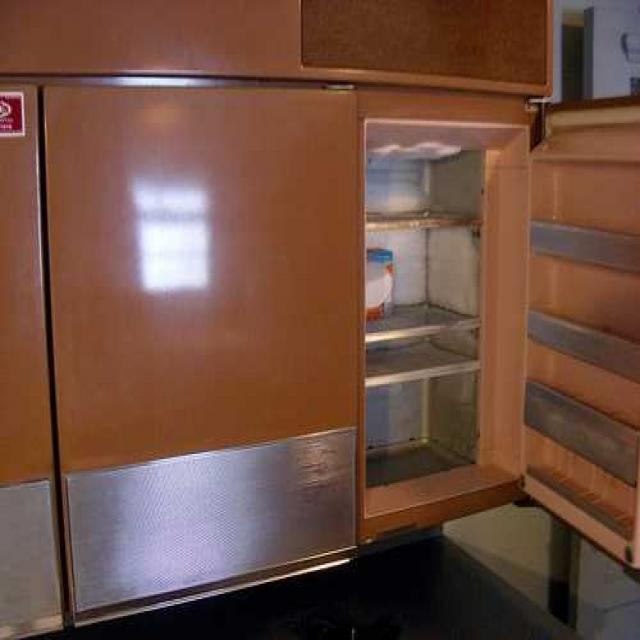refrigerator: (358, 81, 640, 572)
